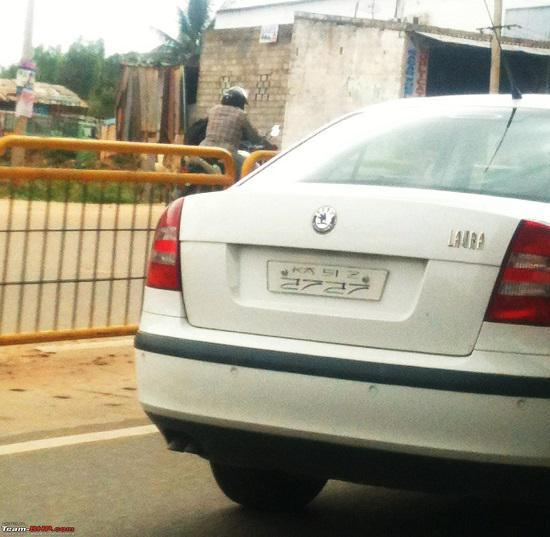licence-plate: (264, 258, 387, 305)
